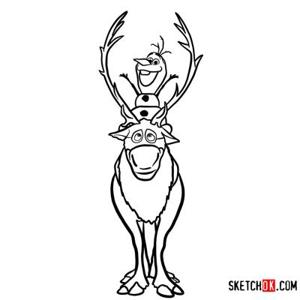sven: (103, 118, 194, 300)
